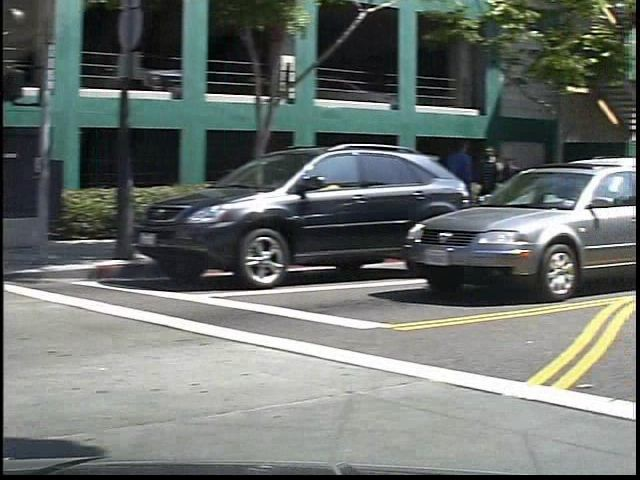person: (460, 137, 500, 240)
